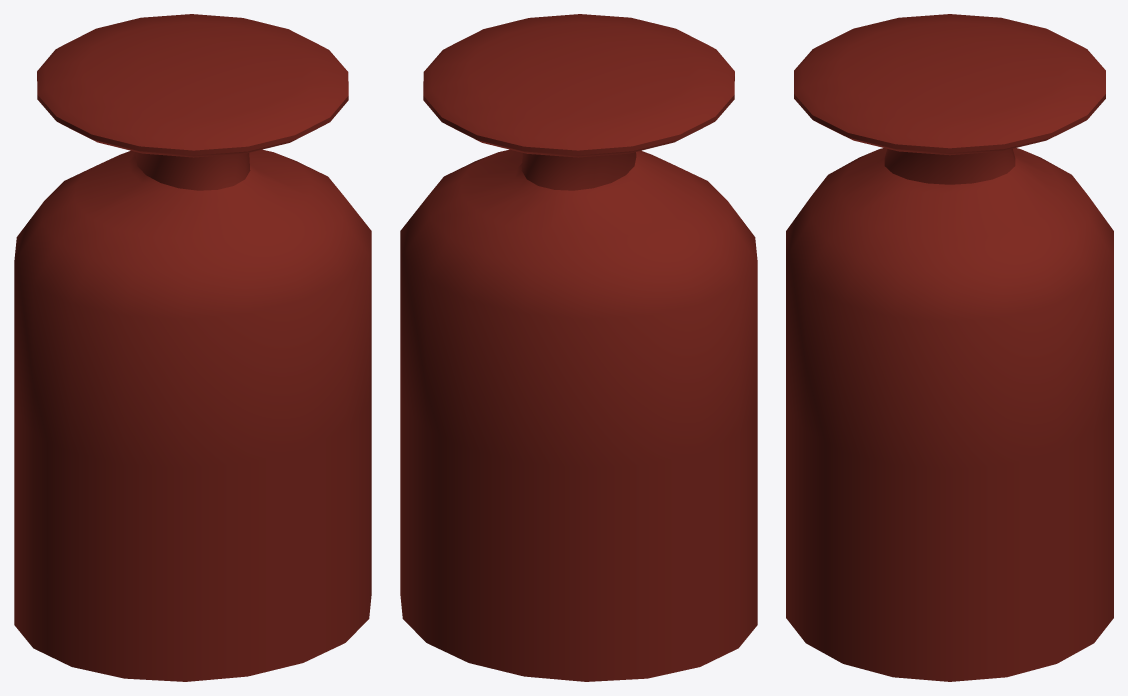
Rendered from Weight.FBX.
3 renders of one model, left to right at view 1: azimuth 30°, elevation 25°; view 2: azimuth 150°, elevation 25°; view 3: azimuth 270°, elevation 25°, orthographic.
Visible parts, largest first — view 1: Peso; view 2: Peso; view 3: Peso.
Boxes of the visible parts, x1,y1,x2,y2 form: Peso: (14, 14, 371, 681); Peso: (400, 14, 757, 681); Peso: (786, 14, 1113, 681).
Bounding box in the file's own units: 3.32 × 5.42 × 2.97.
